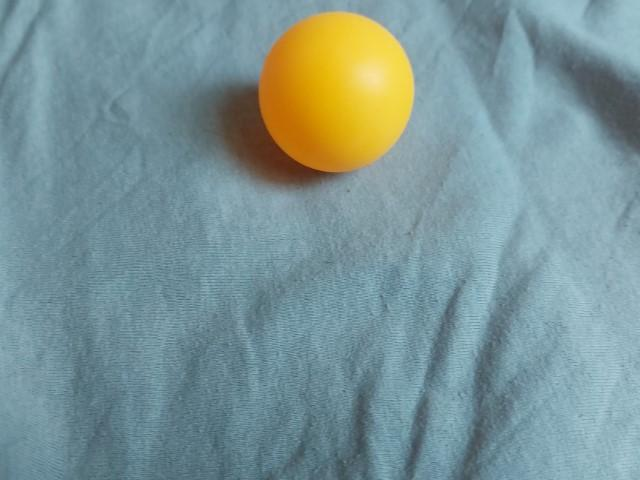oball: (250, 7, 424, 177)
